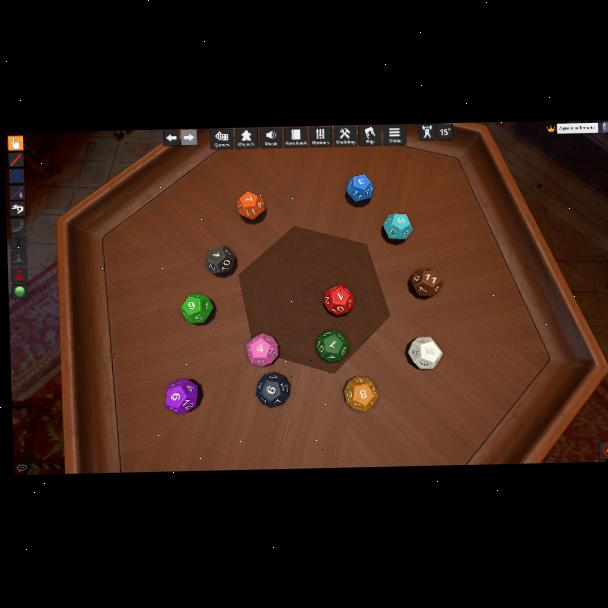d12: (255, 371, 291, 407), (343, 376, 377, 412), (408, 336, 443, 370), (165, 379, 199, 414), (180, 293, 215, 325), (246, 332, 279, 365), (323, 284, 354, 317), (409, 268, 440, 298), (236, 190, 266, 221), (317, 329, 347, 359), (204, 247, 235, 276), (344, 174, 372, 204), (383, 214, 411, 241)
